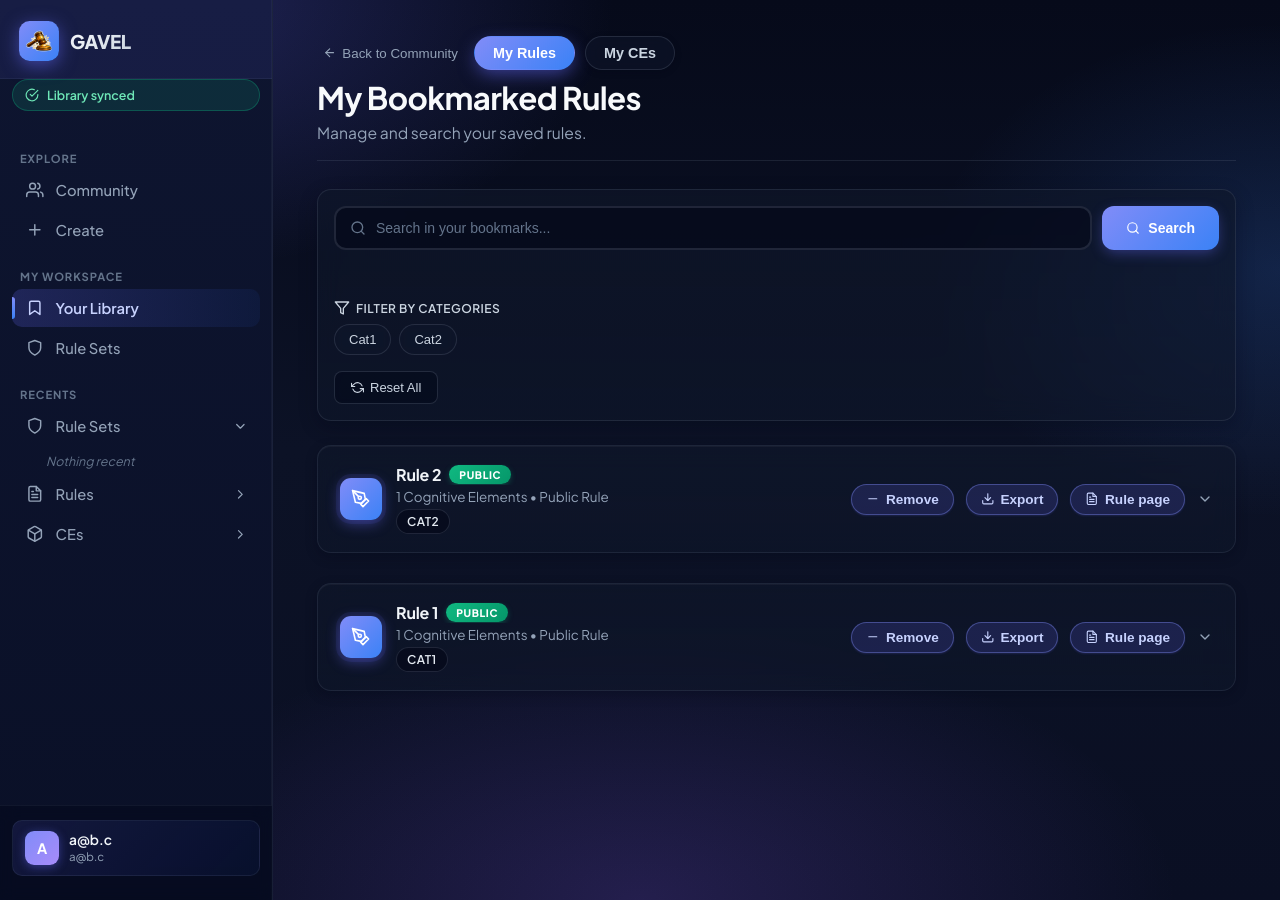
Test case: BookmarksRules — loaded bookmarks › collapses an expanded card on a second click
Click the heading "Rule 1 Public" at (452, 612), box [396,602,508,623]
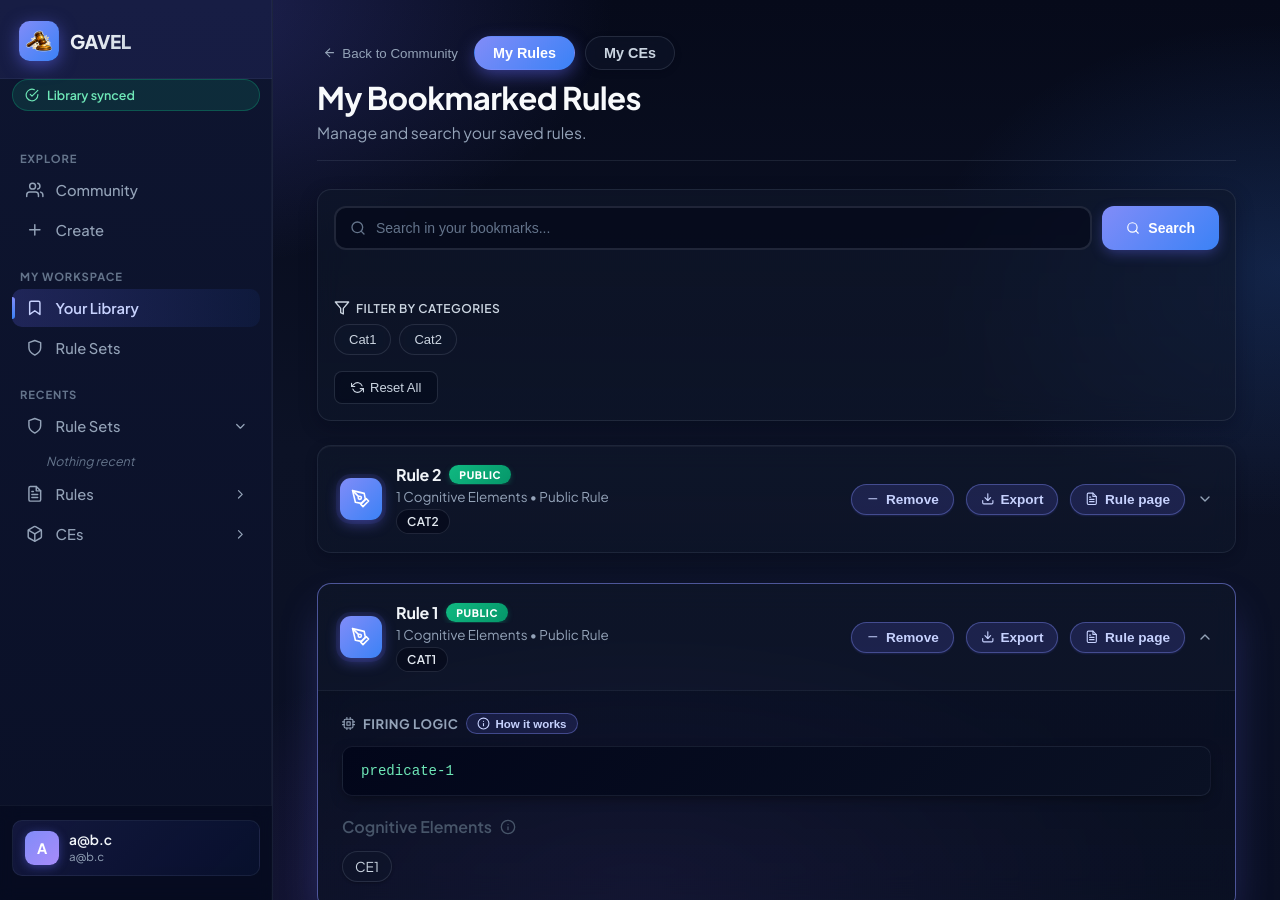
Result: the text "predicate-1" is shown at [342,746,1211,796]
Click the heading "Rule 1 Public" at (452, 612), box [396,602,508,623]
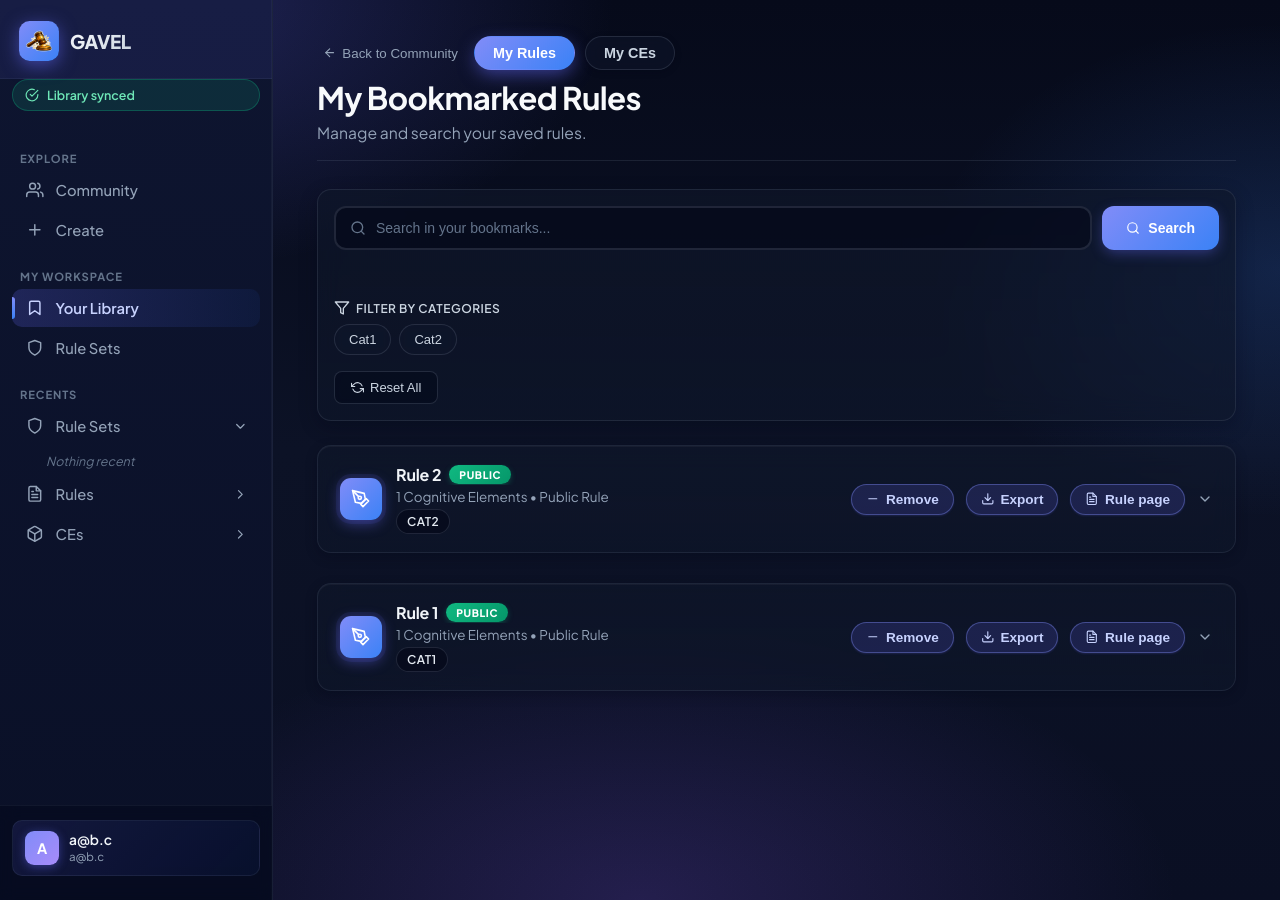
Result: the text "predicate-1" is gone
